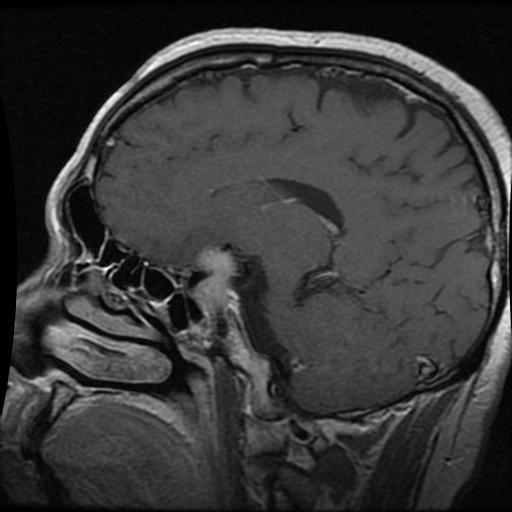Pituirity_tumour: (194, 247, 234, 310)
